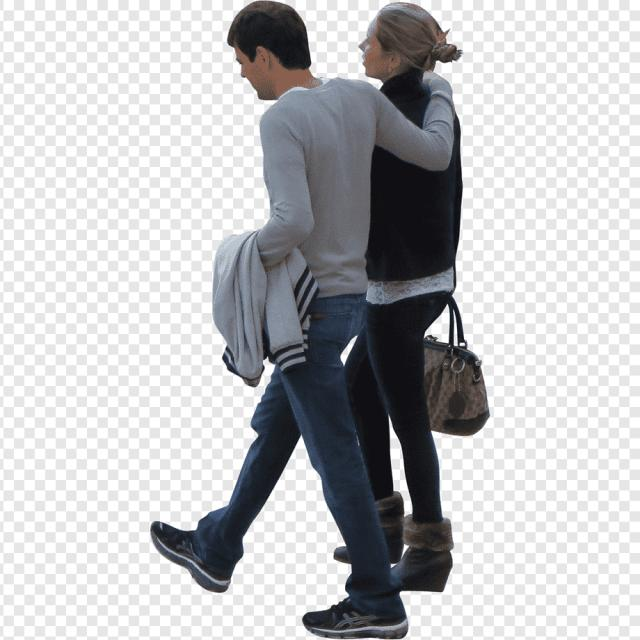adult: (152, 3, 456, 640), (321, 3, 472, 590)
